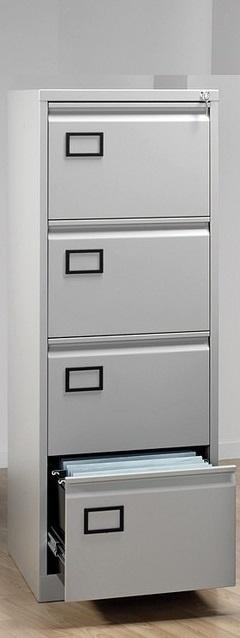cabinet_door: (64, 478, 235, 592), (48, 111, 211, 215), (49, 234, 211, 334), (47, 353, 210, 449)
